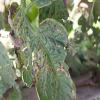Tomato Septoria leaf spot: (9, 2, 77, 99)
